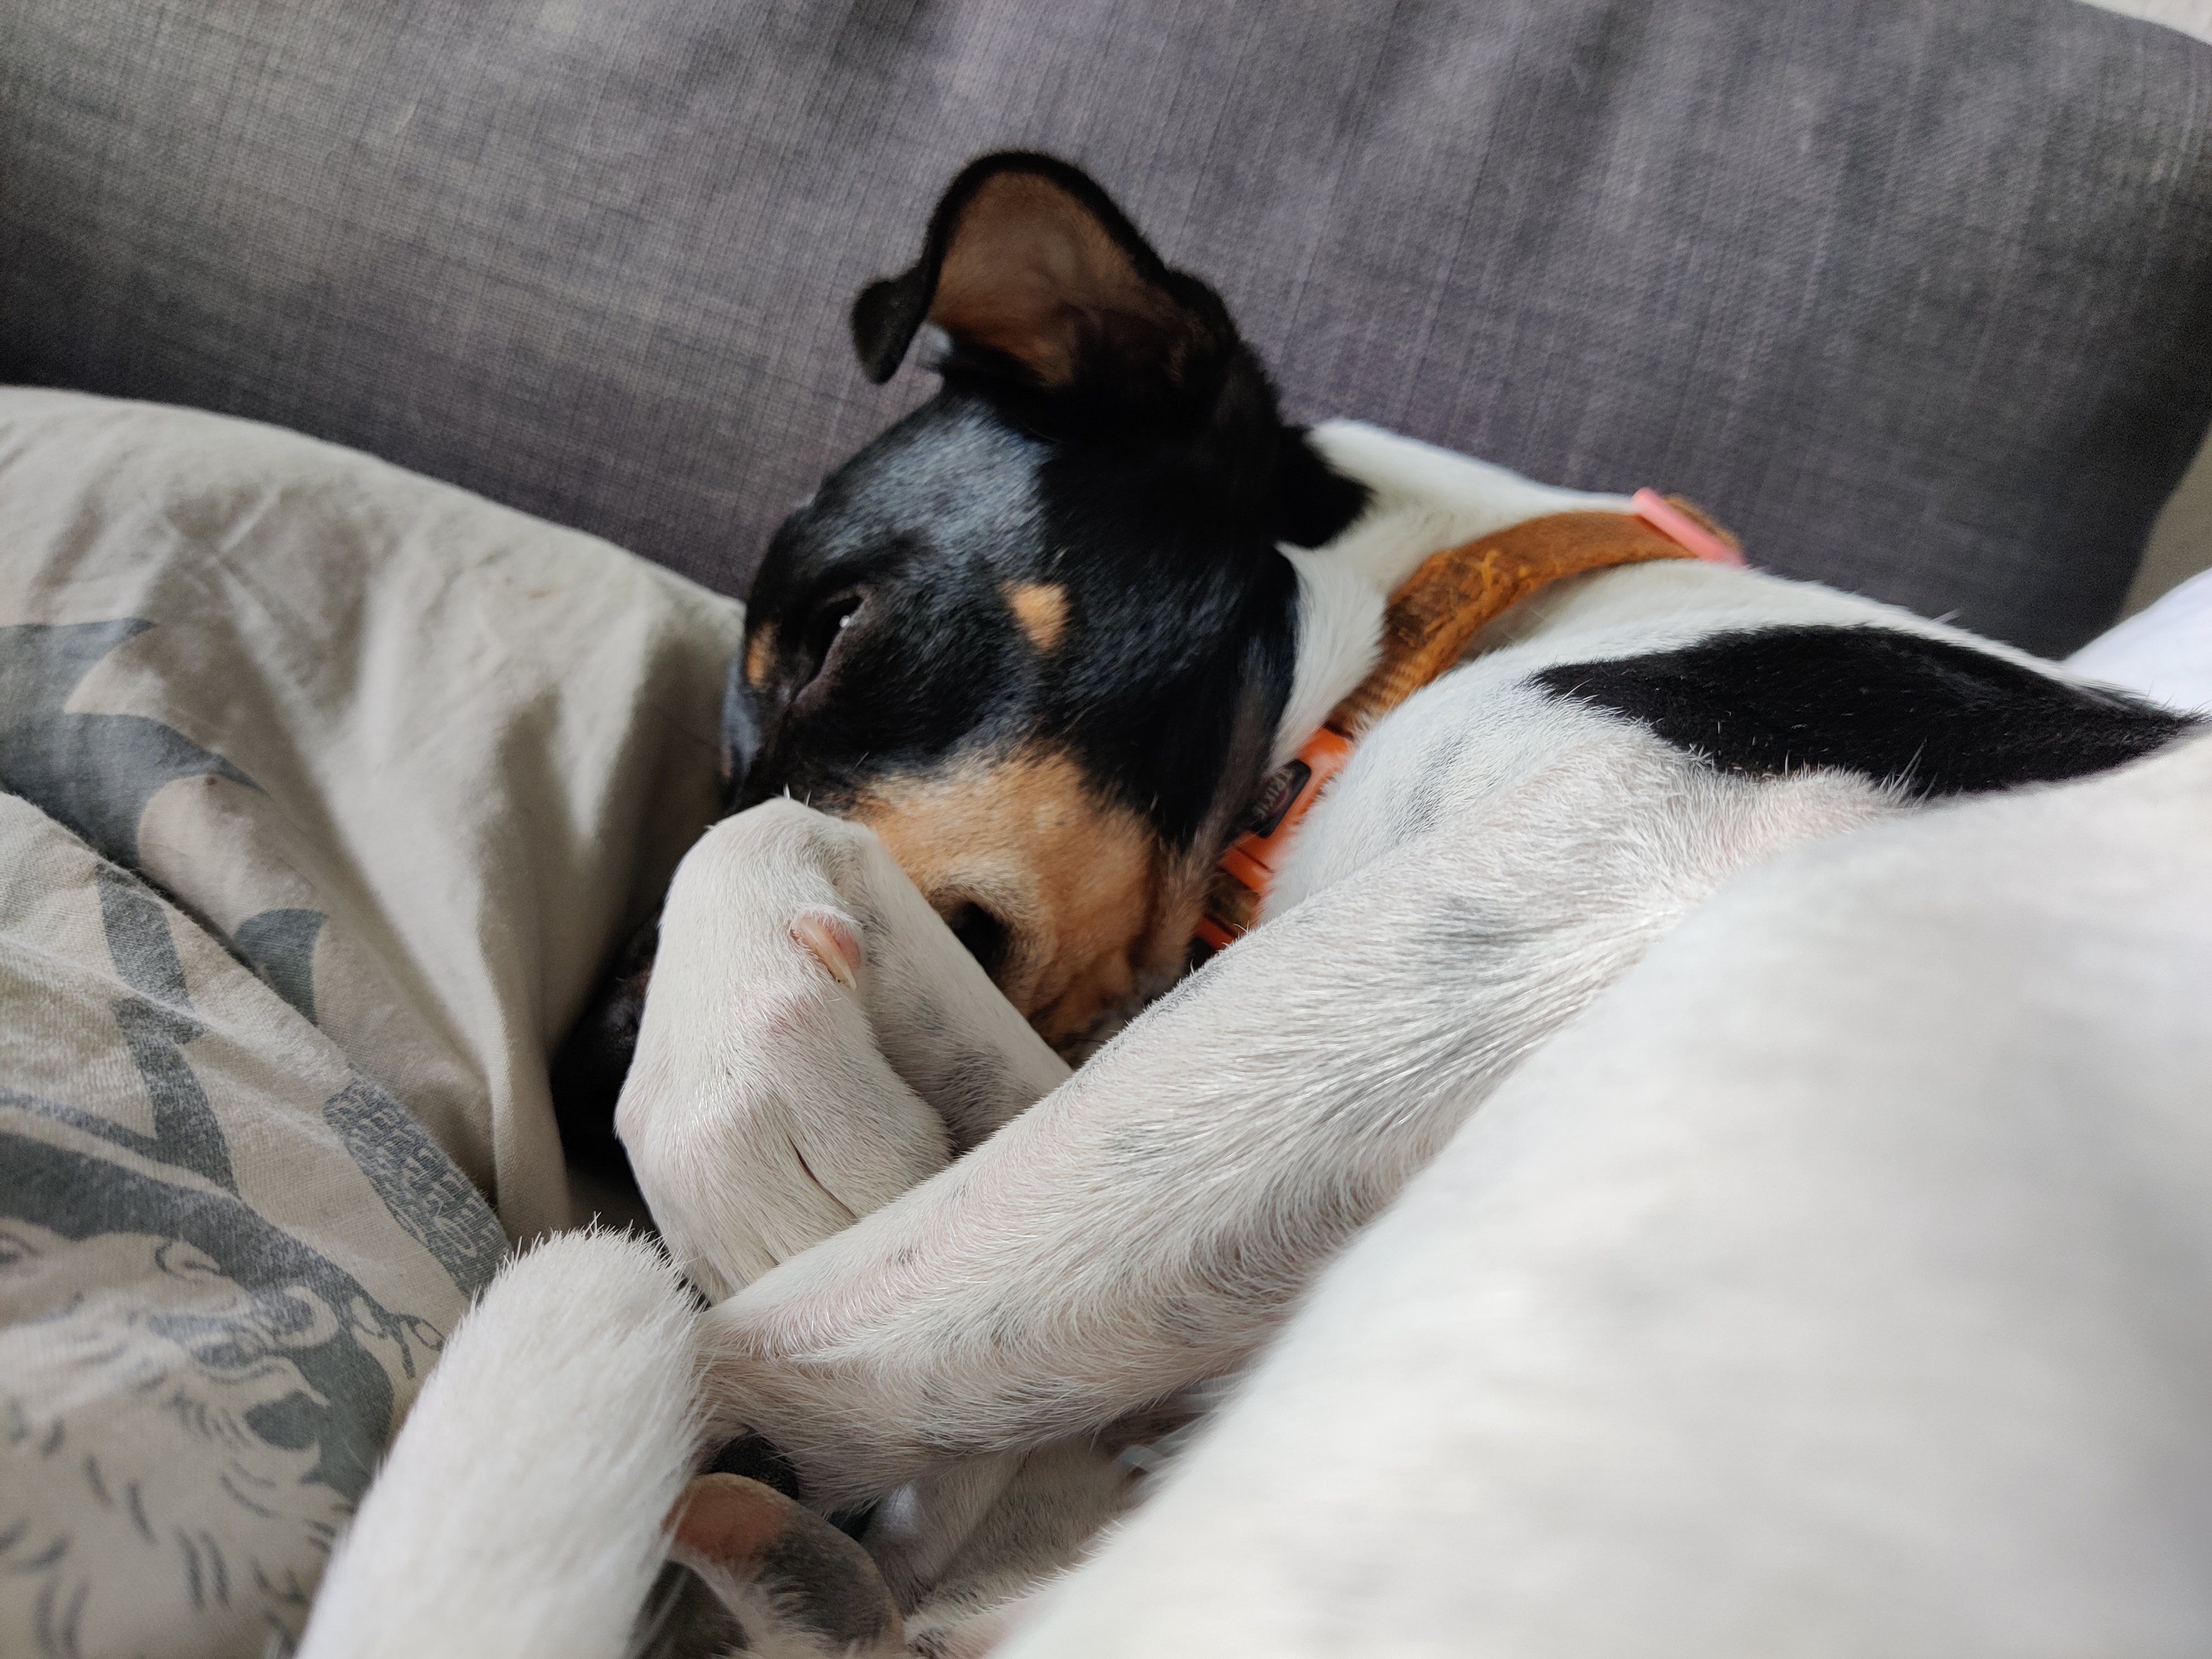Dog: (268, 112, 2212, 1659)
